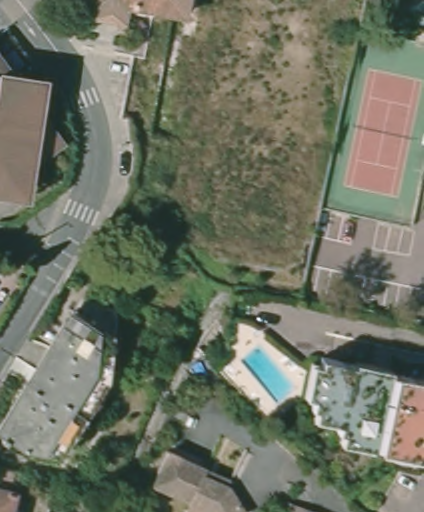pool: (237, 341, 300, 404)
